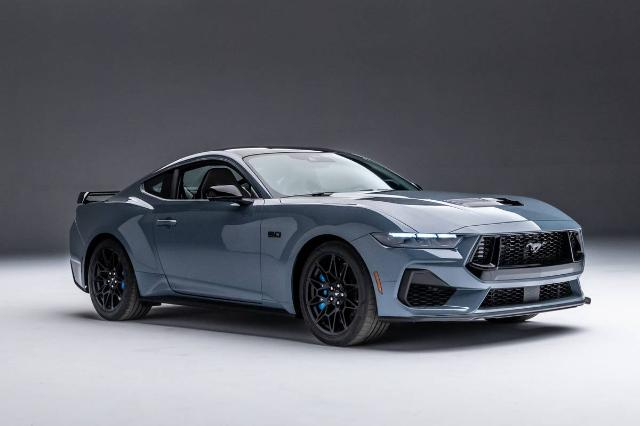ford-mustang: (68, 145, 592, 347)
